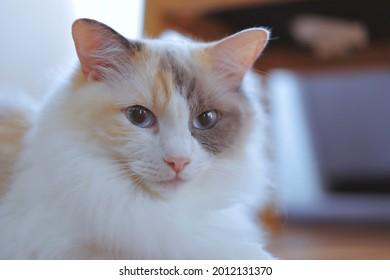ragdoll: (63, 4, 274, 209)
